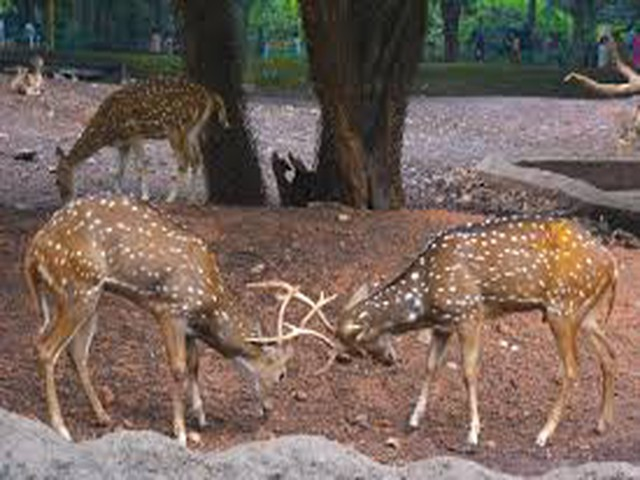deer: (309, 211, 627, 446), (20, 193, 298, 439), (39, 70, 234, 198)
